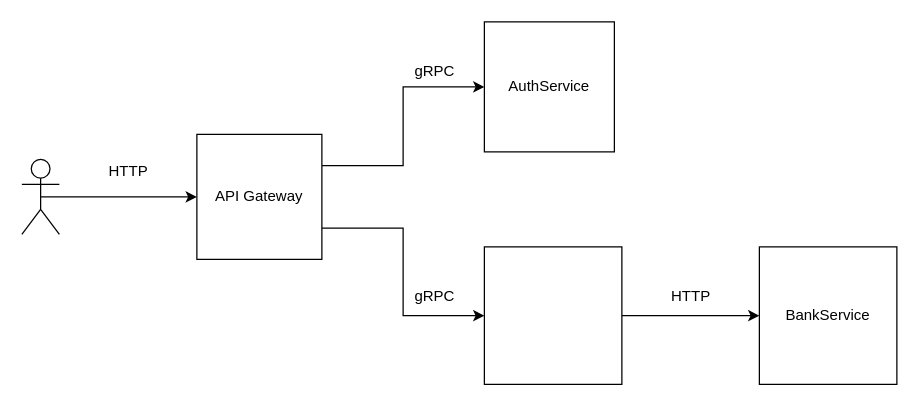
The diagram is 919 pixels wide and 406 high, and some of its shapes have lost their labels. Each missing label, with the centre of its shape:
Actor: point (40, 196)
TransactionService: point (552, 315)
